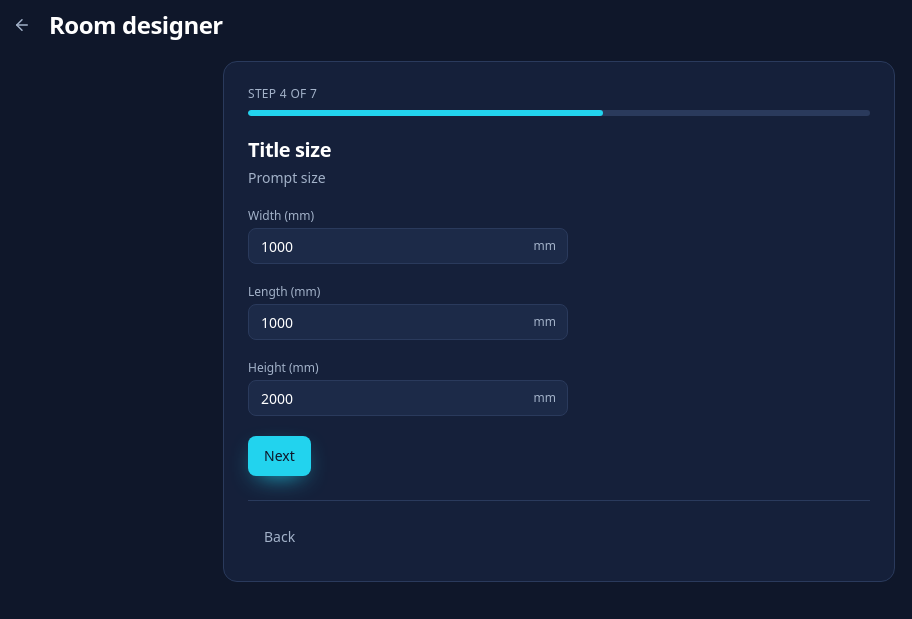
Test: Room designer: wizard › shows the server refusal next to the field and keeps the form
Replace the text in the number field labelled "Width (mm)" with "100". click: [408, 246]
box: [248, 228, 568, 264]
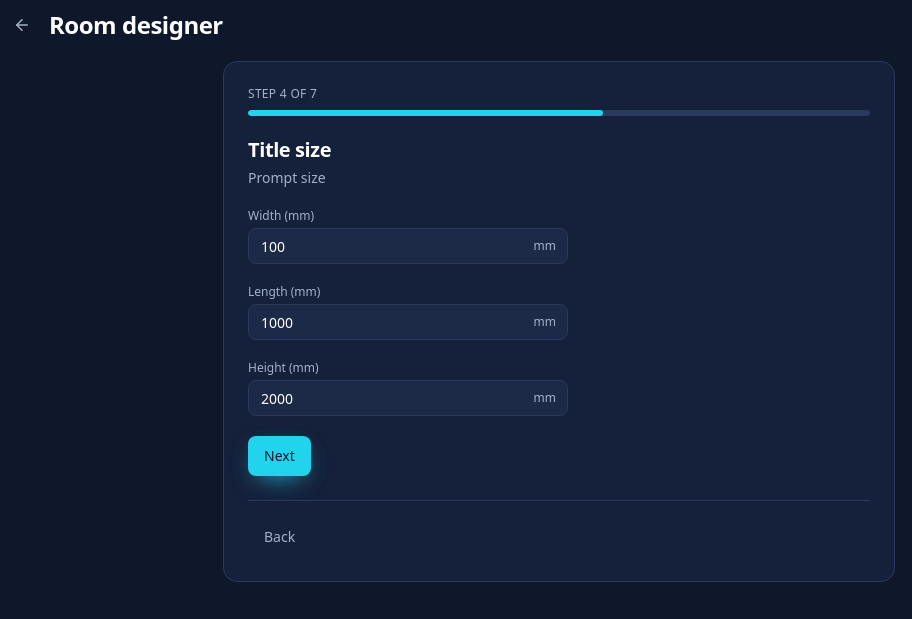
Click the button "Next". click: [279, 456]
box: [248, 436, 311, 476]
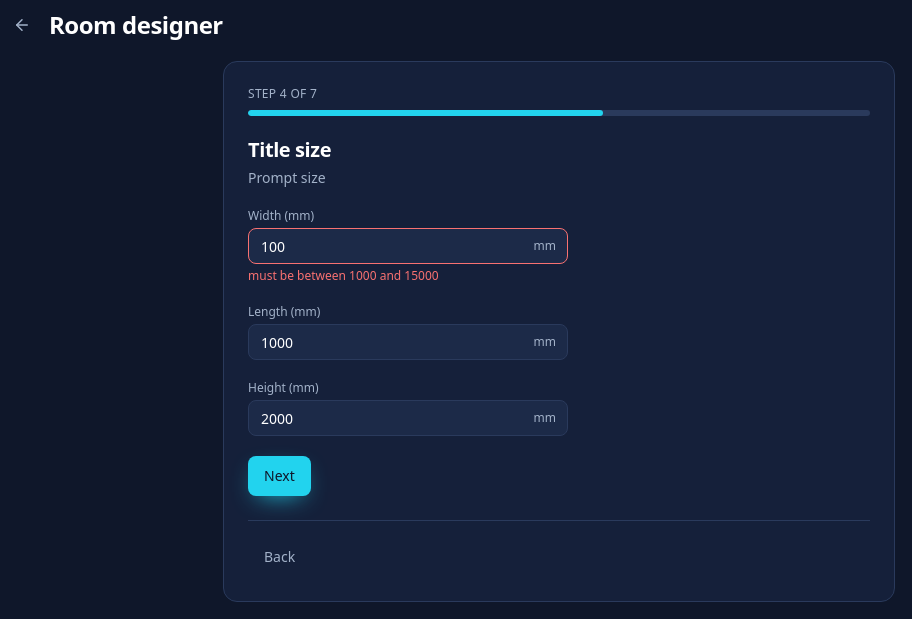
Expected: the text "must be between 1000 and 15000" is shown, [248, 267, 439, 284]
